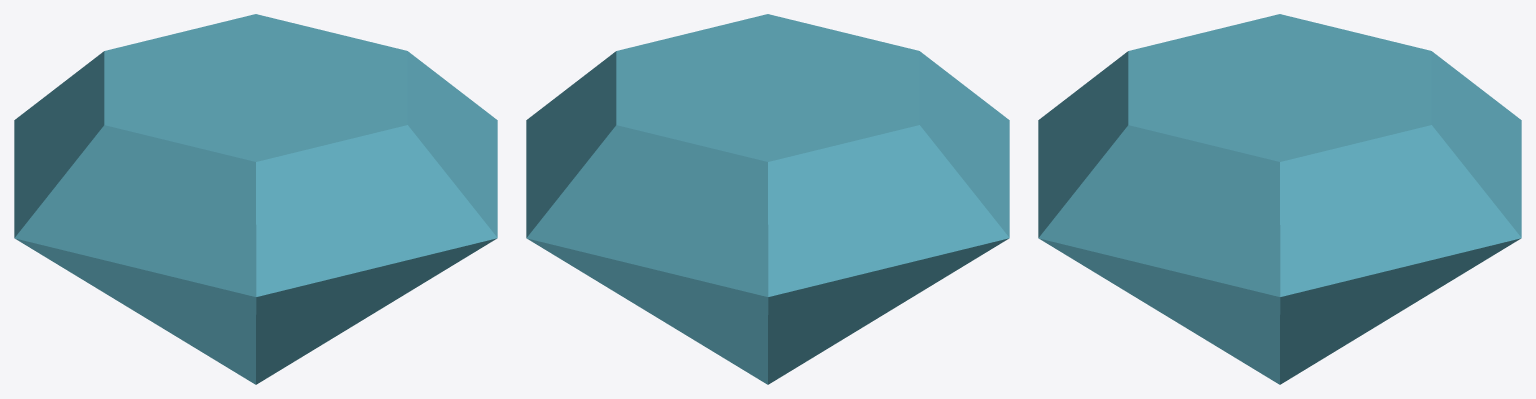
The model's file is diamond.fbx.
3 renders of one model, left to right at view 1: azimuth 30°, elevation 25°; view 2: azimuth 150°, elevation 25°; view 3: azimuth 270°, elevation 25°, orthographic.
Visible parts, largest first — view 1: Diamond_1; view 2: Diamond_1; view 3: Diamond_1.
Part boxes in pixels (box(x1,y1,x2,y2)): Diamond_1: box(14, 14, 497, 384); Diamond_1: box(526, 14, 1009, 384); Diamond_1: box(1038, 14, 1521, 384).
Size of the model in its own units: 0.1224 by 0.0718 by 0.106.
